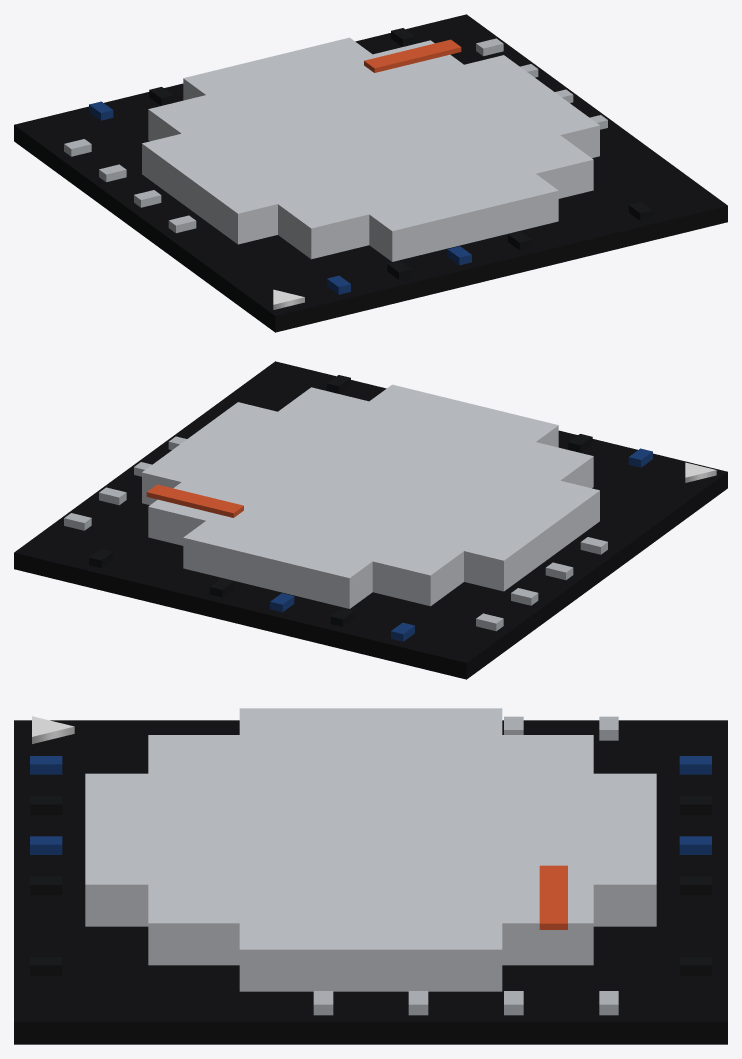
File: hw_cpu_ryzen9_5950x.glb
3 views of the same model, one above another, from view 1: azimuth 30°, elevation 25°; view 2: azimuth 150°, elevation 25°; view 3: azimuth 270°, elevation 25° (orthographic). The views are drawn at different scales.
Visible parts, largest first — view 1: Body; view 2: Body; view 3: Body.
Part boxes in pixels (x1,y1,x2,y2): Body: (14, 14, 727, 332); Body: (14, 361, 727, 679); Body: (14, 708, 727, 1044).
Size of the model in its own units: 0.04 by 0.00467 by 0.04.
